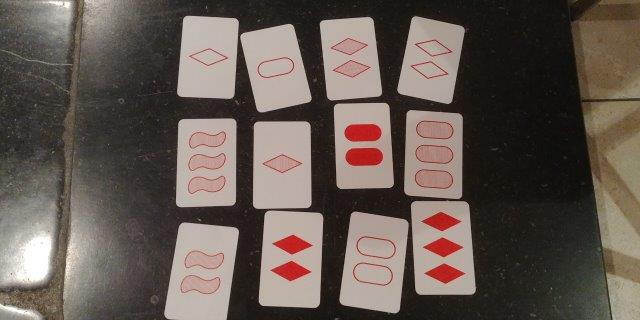1ED: (184, 20, 232, 94)
1EP: (255, 34, 295, 104)
1HD: (256, 125, 307, 205)
2ED: (409, 26, 453, 94)
2EP: (351, 217, 400, 301)
2FD: (266, 214, 317, 303)
2FP: (338, 106, 388, 185)
2HD: (326, 21, 372, 95)
2HW: (178, 227, 225, 315)
3FD: (416, 205, 468, 290)
3HP: (408, 114, 458, 194)
3HW: (180, 122, 234, 204)
